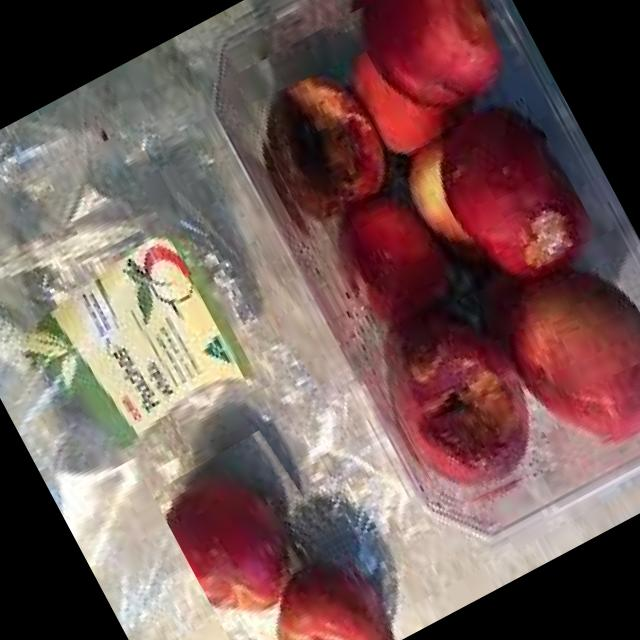Organic: (217, 0, 640, 525), (147, 418, 397, 640)
